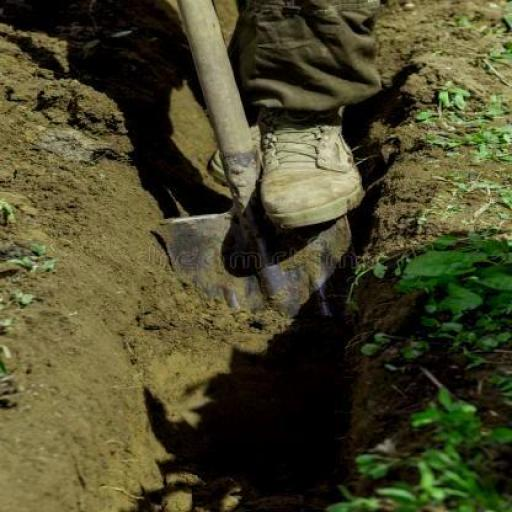safety_shoe: (264, 101, 360, 217)
